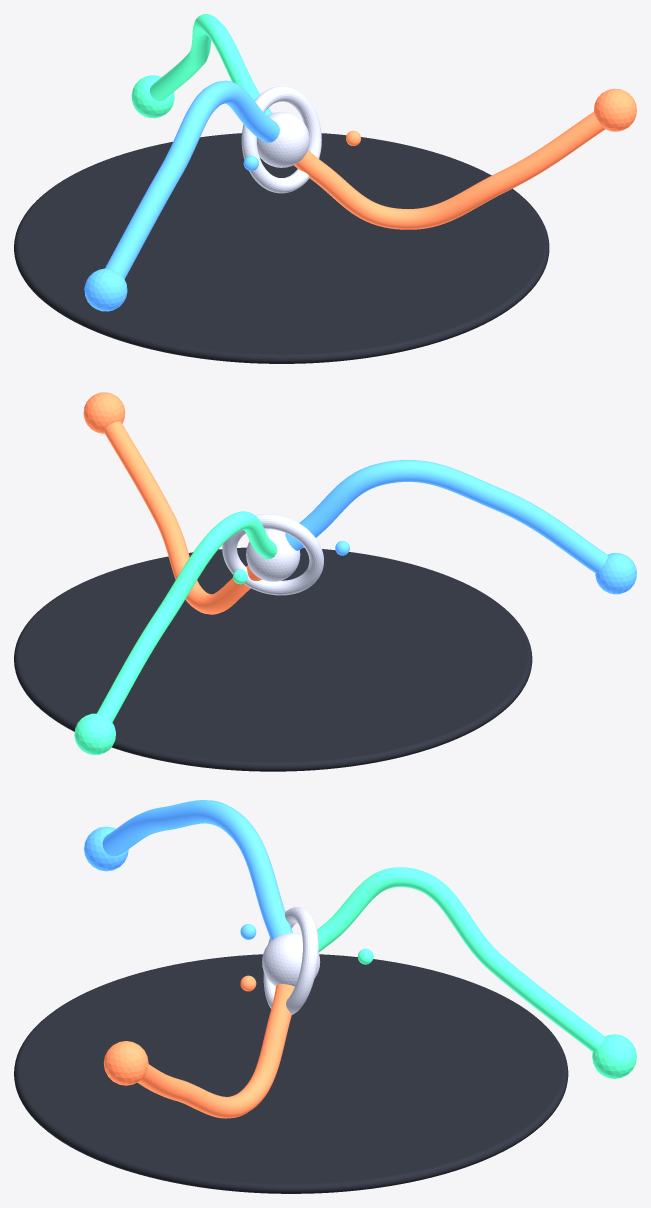
The model's file is convergence-object-001.glb.
The picture shows the model from 3 angles, top to bottom: view 1: azimuth 30°, elevation 25°; view 2: azimuth 150°, elevation 25°; view 3: azimuth 270°, elevation 25°; orthographic projection. The views are drawn at different scales.
Visible parts, largest first — view 1: Convergence_Base, Signal_Path_2, Signal_Path_1, Signal_Path_3, Resolution_Ring, Resolution_Core, Signal_Origin_1, Signal_Origin_2, Signal_Origin_3; view 2: Convergence_Base, Signal_Path_1, Signal_Path_3, Signal_Path_2, Resolution_Ring, Resolution_Core, Signal_Origin_3, Signal_Origin_1, Signal_Origin_2; view 3: Convergence_Base, Signal_Path_3, Signal_Path_1, Signal_Path_2, Resolution_Ring, Resolution_Core, Signal_Origin_2, Signal_Origin_3, Signal_Origin_1.
Part boxes in pixels (left/top/right/bottom): Convergence_Base: left=14, top=133, right=549, bottom=363; Signal_Path_2: left=294, top=112, right=604, bottom=229; Signal_Path_1: left=105, top=80, right=279, bottom=278; Signal_Path_3: left=150, top=14, right=272, bottom=115; Resolution_Ring: left=241, top=86, right=321, bottom=193; Resolution_Core: left=257, top=112, right=309, bottom=167; Signal_Origin_1: left=84, top=268, right=127, bottom=311; Signal_Origin_2: left=594, top=88, right=636, bottom=131; Signal_Origin_3: left=131, top=75, right=174, bottom=118; Convergence_Base: left=14, top=547, right=532, bottom=771; Signal_Path_1: left=285, top=460, right=607, bottom=573; Signal_Path_3: left=97, top=511, right=277, bottom=722; Signal_Path_2: left=104, top=421, right=261, bottom=614; Resolution_Ring: left=222, top=514, right=323, bottom=595; Resolution_Core: left=246, top=528, right=300, bottom=581; Signal_Origin_3: left=74, top=713, right=115, bottom=754; Signal_Origin_1: left=595, top=553, right=636, bottom=594; Signal_Origin_2: left=83, top=392, right=125, bottom=433; Convergence_Base: left=14, top=954, right=568, bottom=1193; Signal_Path_3: left=317, top=867, right=604, bottom=1052; Signal_Path_1: left=102, top=800, right=292, bottom=940; Signal_Path_2: left=137, top=984, right=294, bottom=1118; Resolution_Ring: left=263, top=907, right=318, bottom=1014; Resolution_Core: left=262, top=933, right=320, bottom=986; Signal_Origin_2: left=103, top=1041, right=148, bottom=1085; Signal_Origin_3: left=592, top=1034, right=636, bottom=1078; Signal_Origin_1: left=84, top=826, right=128, bottom=871.
Bounding box in the file's own units: 10.08 × 3.67 × 9.44.
